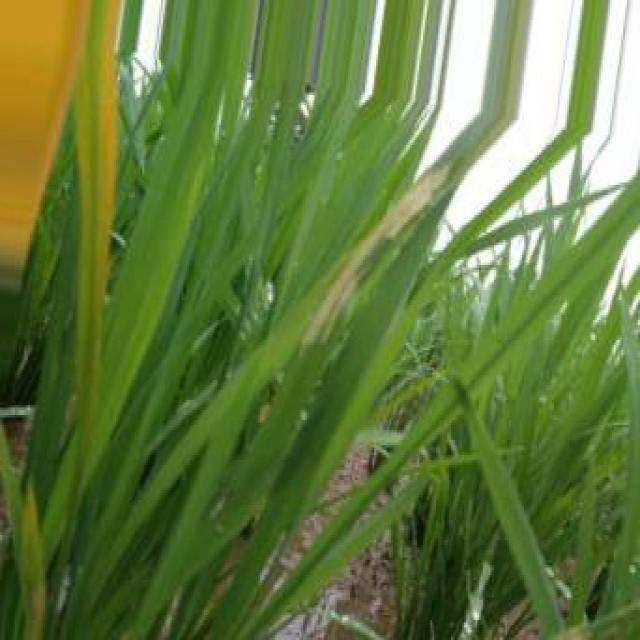Rice Tungro: (1, 0, 120, 450), (301, 162, 450, 348), (0, 0, 89, 278)
